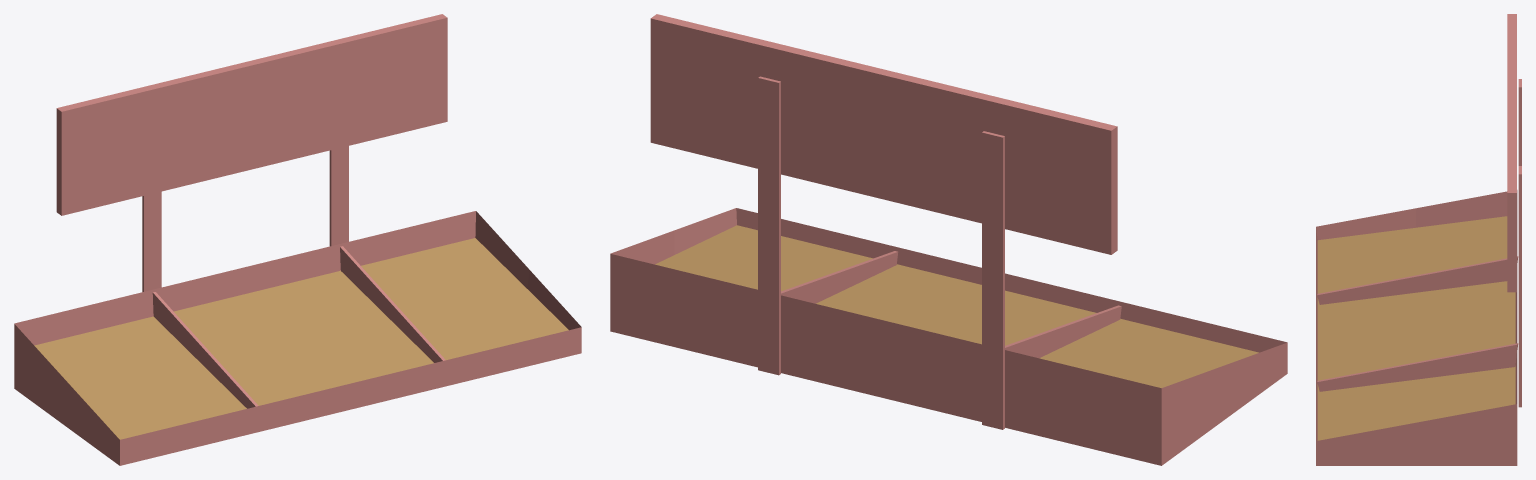
Rendered from cut up market stand .fbx.
The picture shows the model from 3 angles, left to right: view 1: azimuth 30°, elevation 25°; view 2: azimuth 150°, elevation 25°; view 3: azimuth 270°, elevation 25°; orthographic projection. The views are drawn at different scales.
Parts seen in each view (by area): view 1: polySurface5, polySurface1, polySurface21, polySurface7, polySurface3, polySurface17, polySurface15, polySurface23, polySurface19, polySurface13, polySurface39, polySurface35 (+15 smaller); view 2: polySurface5, polySurface1, polySurface21, polySurface15, polySurface7, polySurface23, polySurface35, polySurface39, polySurface37, polySurface31, polySurface3, polySurface41 (+18 smaller); view 3: polySurface1, polySurface3, polySurface5, polySurface7, polySurface17, polySurface21, polySurface19, polySurface13, polySurface23, polySurface15, polySurface25, polySurface11 (+12 smaller).
Boxes of the visible parts, bbox=[...] form: polySurface5: bbox=[14, 301, 158, 426]; polySurface1: bbox=[384, 211, 529, 310]; polySurface21: bbox=[198, 255, 344, 356]; polySurface7: bbox=[67, 379, 211, 465]; polySurface3: bbox=[438, 270, 581, 375]; polySurface17: bbox=[252, 333, 398, 420]; polySurface15: bbox=[106, 278, 250, 379]; polySurface23: bbox=[292, 233, 437, 333]; polySurface19: bbox=[345, 311, 491, 397]; polySurface13: bbox=[159, 356, 304, 443]; polySurface39: bbox=[106, 73, 205, 151]; polySurface35: bbox=[201, 50, 298, 128]; polySurface5: bbox=[1052, 361, 1225, 465]; polySurface1: bbox=[610, 230, 757, 357]; polySurface21: bbox=[829, 307, 981, 411]; polySurface15: bbox=[941, 334, 1114, 438]; polySurface7: bbox=[1116, 316, 1287, 419]; polySurface23: bbox=[720, 280, 891, 384]; polySurface35: bbox=[829, 57, 945, 150]; polySurface39: bbox=[939, 84, 1057, 177]; polySurface37: bbox=[829, 123, 939, 212]; polySurface31: bbox=[719, 31, 834, 123]; polySurface3: bbox=[674, 208, 844, 280]; polySurface41: bbox=[939, 151, 1052, 240]; polySurface1: bbox=[1415, 362, 1517, 465]; polySurface3: bbox=[1316, 399, 1417, 465]; polySurface5: bbox=[1416, 190, 1517, 269]; polySurface7: bbox=[1316, 208, 1416, 281]; polySurface17: bbox=[1316, 312, 1416, 368]; polySurface21: bbox=[1416, 276, 1517, 356]; polySurface19: bbox=[1316, 356, 1416, 411]; polySurface13: bbox=[1316, 269, 1416, 324]; polySurface23: bbox=[1416, 320, 1517, 398]; polySurface15: bbox=[1416, 233, 1517, 312]; polySurface25: bbox=[1418, 343, 1518, 379]; polySurface11: bbox=[1418, 256, 1518, 292].
Size of the model in its own units: 495 by 277 by 201.
